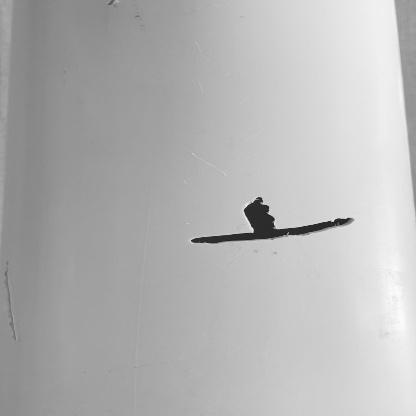fengxi: (191, 218, 360, 245)
kongdong: (242, 196, 280, 231)
